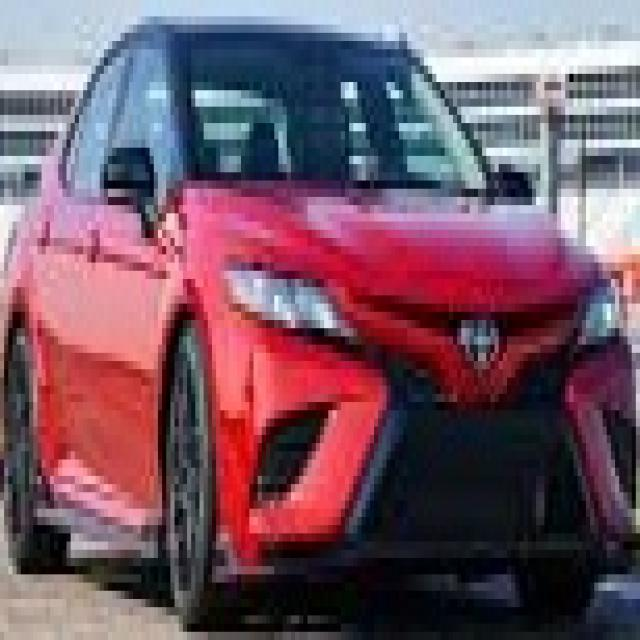red: (0, 10, 640, 611)
